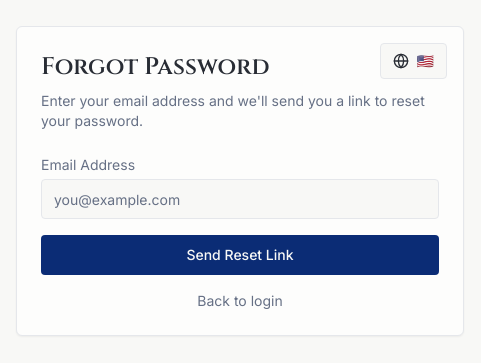
Scenario: ForgotPassword page › shows generic error message on API failure
This screenshot has width=481, height=363.
Step 1. Type "test@example.com" into the field labelled "Email Address" → [240, 199], box [41,179,439,219]
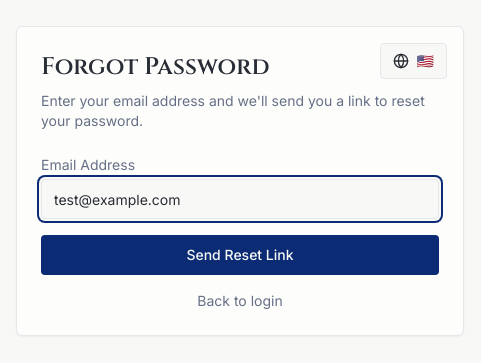
Step 2. Click the button "Send Reset Link" → [240, 255], box [41,235,439,275]
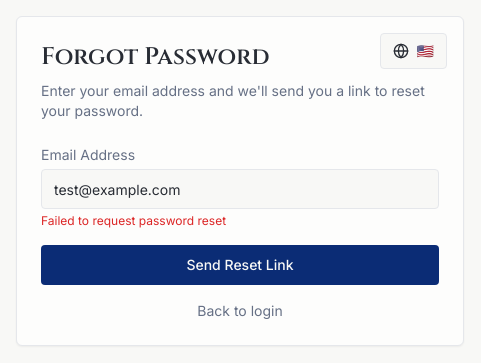
Now the message reads "Failed to request password reset", box [41,213,226,228]
